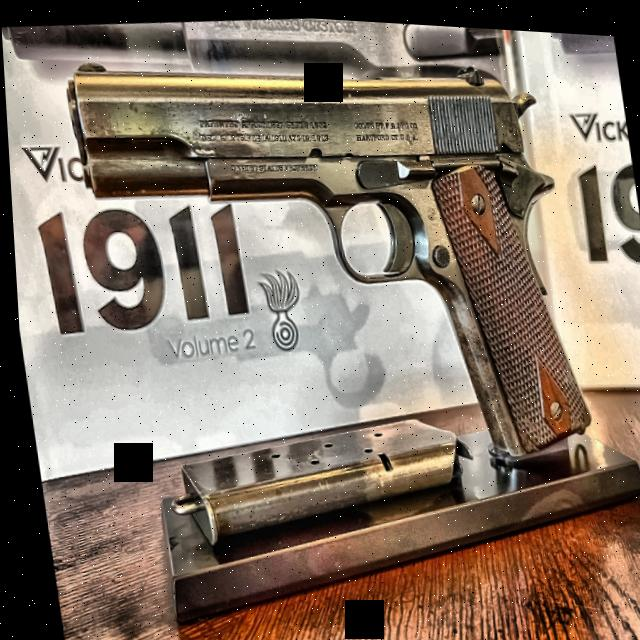Colt m1911: (50, 17, 597, 499)
